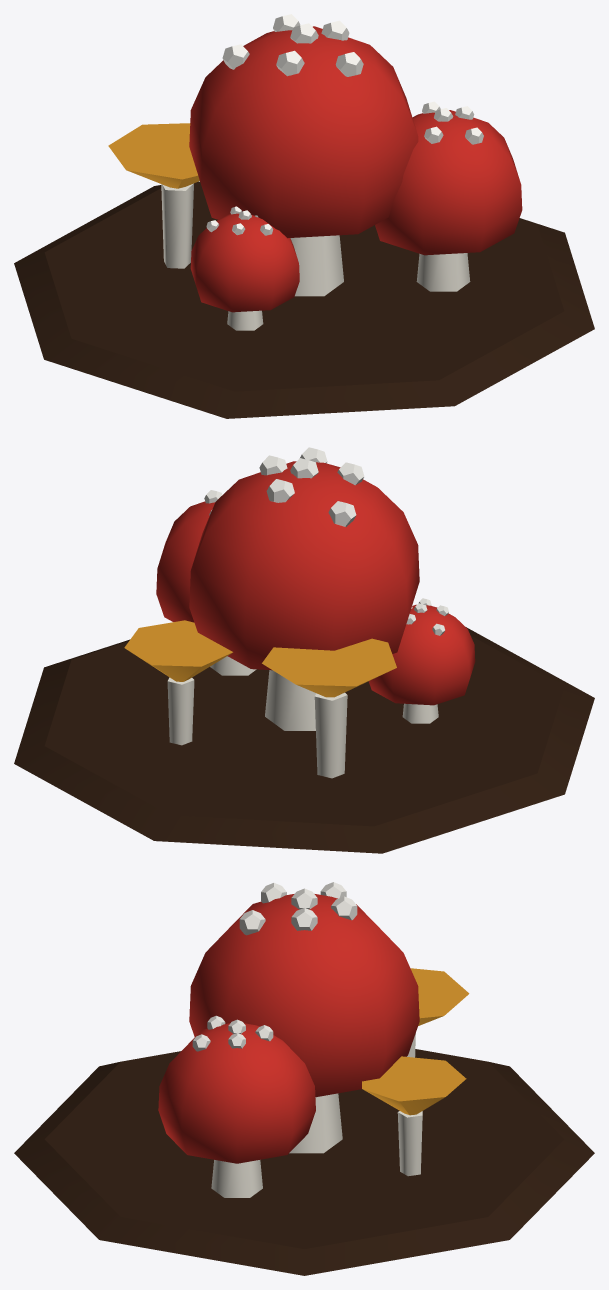
File: forest_mushrooms.glb
3 renders of one model, top to bottom at view 1: azimuth 30°, elevation 25°; view 2: azimuth 150°, elevation 25°; view 3: azimuth 270°, elevation 25°, orthographic. The views are drawn at different scales.
Visible parts, largest first — view 1: ForestMushrooms; view 2: ForestMushrooms; view 3: ForestMushrooms.
Boxes of the visible parts, left/top/right/bottom form: ForestMushrooms: left=14, top=14, right=594, bottom=418; ForestMushrooms: left=14, top=447, right=594, bottom=853; ForestMushrooms: left=14, top=882, right=594, bottom=1275.
Bounding box in the file's own units: 1.9 × 0.9476 × 1.9.
